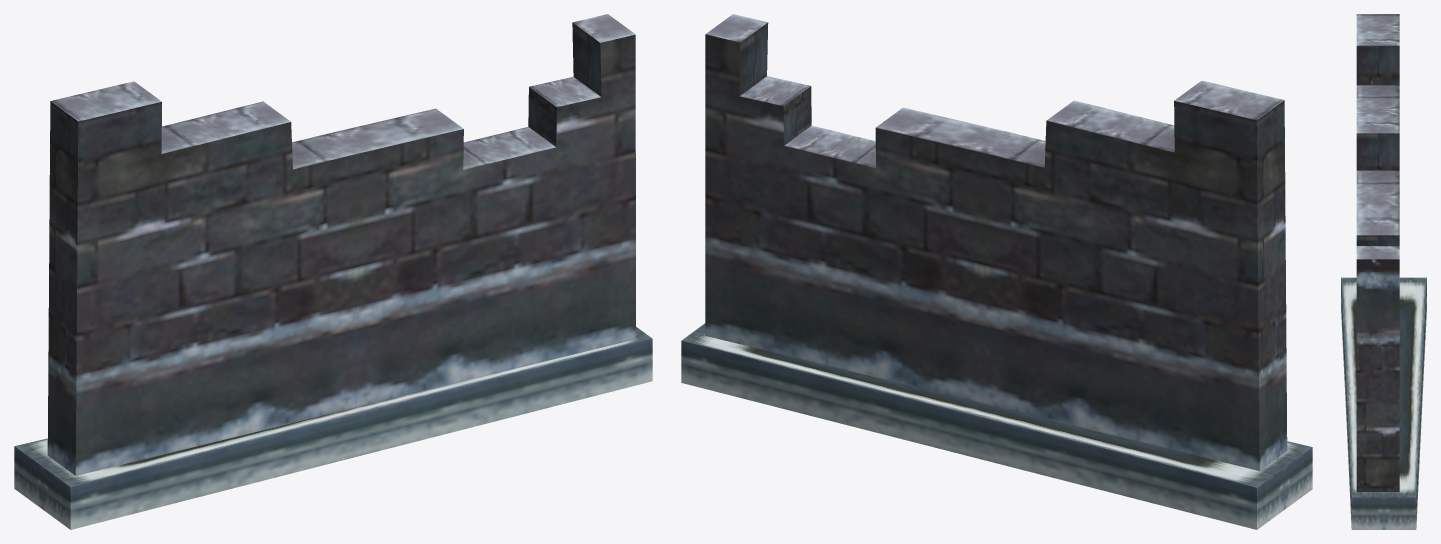
The model's file is yw_anxizhidi_shiqiang02.FBX.
3 views of the same model, side by side, from view 1: azimuth 30°, elevation 25°; view 2: azimuth 150°, elevation 25°; view 3: azimuth 270°, elevation 25° (orthographic). The views are drawn at different scales.
Visible parts, largest first — view 1: yw_anxizhidi_shiqiang02; view 2: yw_anxizhidi_shiqiang02; view 3: yw_anxizhidi_shiqiang02.
Part boxes in pixels (x1,y1,x2,y2): yw_anxizhidi_shiqiang02: (14, 14, 652, 529); yw_anxizhidi_shiqiang02: (681, 14, 1312, 529); yw_anxizhidi_shiqiang02: (1341, 14, 1426, 529).
Size of the model in its own units: 319 by 205 by 52.67.
